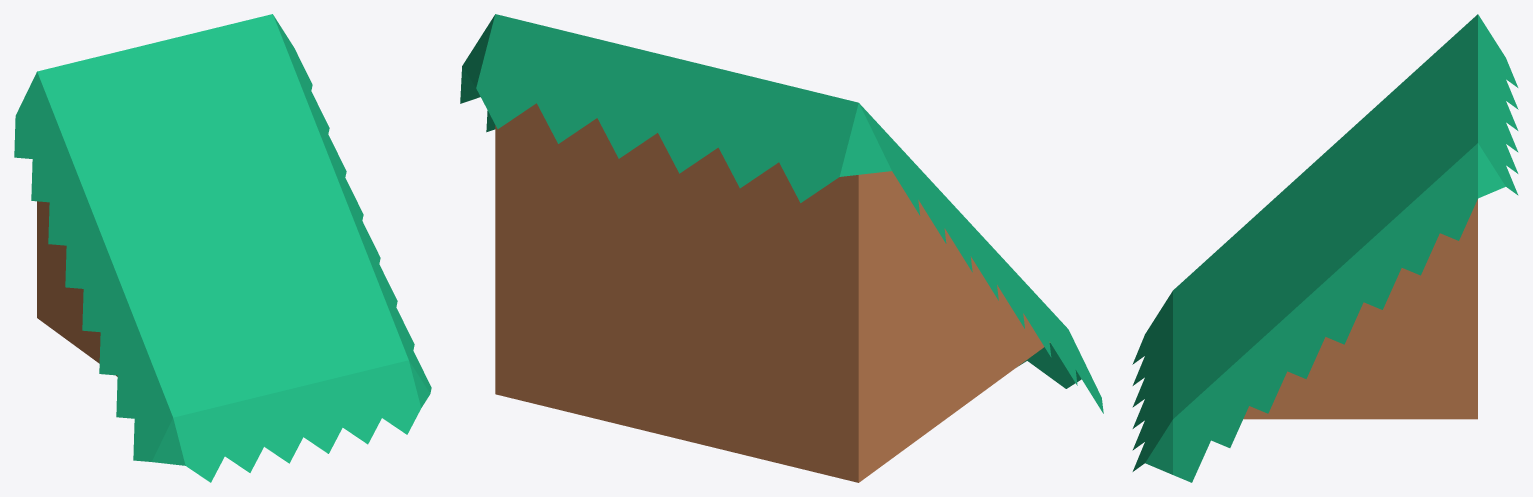
Rendered from blockSlope.obj.
3 views of the same model, side by side, from view 1: azimuth 30°, elevation 25°; view 2: azimuth 150°, elevation 25°; view 3: azimuth 270°, elevation 25° (orthographic). The views are drawn at different scales.
Visible parts, largest first — view 1: blockSlope; view 2: blockSlope; view 3: blockSlope.
Part boxes in pixels (left/top/right/bottom): blockSlope: left=14, top=14, right=431, bottom=482; blockSlope: left=460, top=14, right=1103, bottom=482; blockSlope: left=1132, top=14, right=1518, bottom=482.
Bounding box in the file's own units: 1.27 × 1.23 × 1.27.
